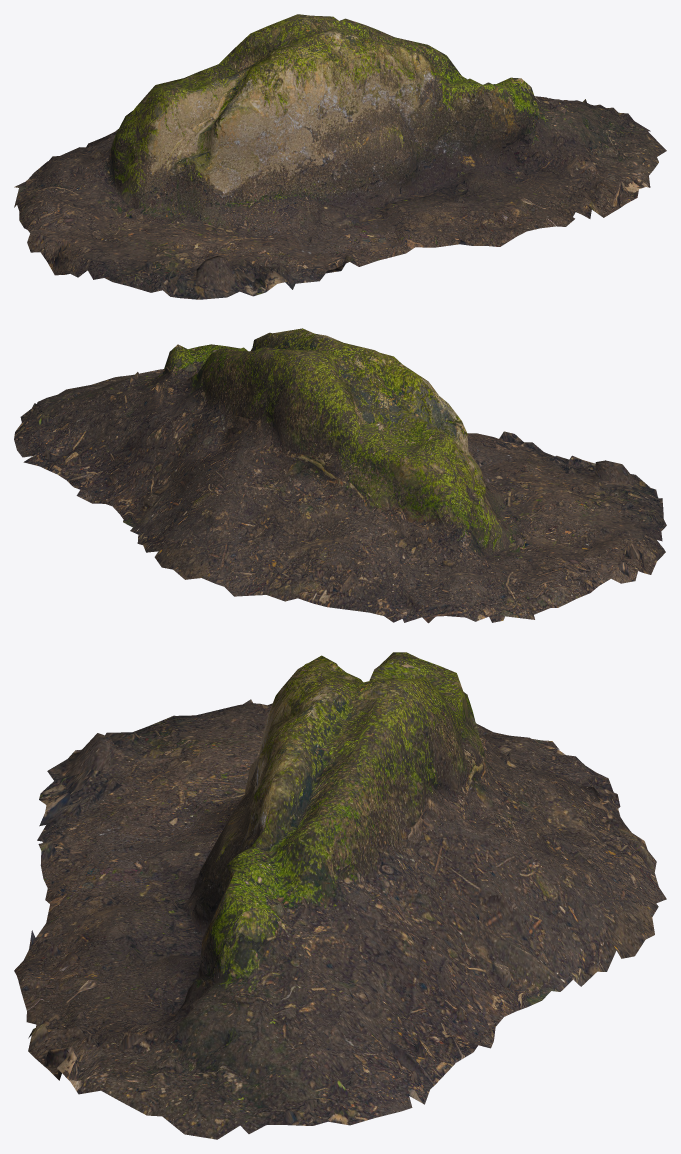
Rendered from PX_Mossy_Rock_05_LOD4.fbx.
The picture shows the model from 3 angles, top to bottom: view 1: azimuth 30°, elevation 25°; view 2: azimuth 150°, elevation 25°; view 3: azimuth 270°, elevation 25°; orthographic projection. The views are drawn at different scales.
Visible parts, largest first — view 1: PX_Mossy_Rock_05_LOD4; view 2: PX_Mossy_Rock_05_LOD4; view 3: PX_Mossy_Rock_05_LOD4.
Part boxes in pixels (left/top/right/bottom): PX_Mossy_Rock_05_LOD4: left=14, top=14, right=666, bottom=299; PX_Mossy_Rock_05_LOD4: left=14, top=328, right=666, bottom=623; PX_Mossy_Rock_05_LOD4: left=14, top=652, right=666, bottom=1139.
Bounding box in the file's own units: 105 × 27.73 × 66.94.
